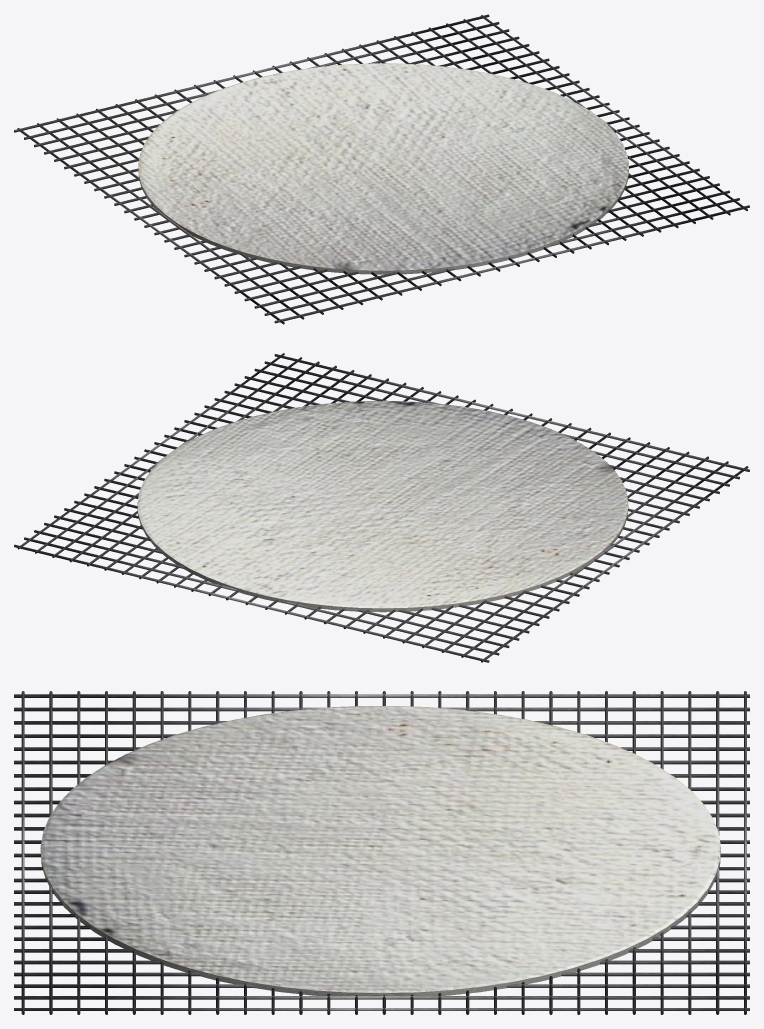
Rendered from chemical_Asbestos network.FBX.
3 views of the same model, one above another, from view 1: azimuth 30°, elevation 25°; view 2: azimuth 150°, elevation 25°; view 3: azimuth 270°, elevation 25° (orthographic). The views are drawn at different scales.
Visible parts, largest first — view 1: chemical_Asbestos network; view 2: chemical_Asbestos network; view 3: chemical_Asbestos network.
Part boxes in pixels (x1,y1,x2,y2): chemical_Asbestos network: (14, 14, 749, 324); chemical_Asbestos network: (14, 353, 749, 662); chemical_Asbestos network: (14, 691, 749, 1014).
Size of the model in its own units: 5.21 by 0.0533 by 5.05.
1 material, 1 textured.
